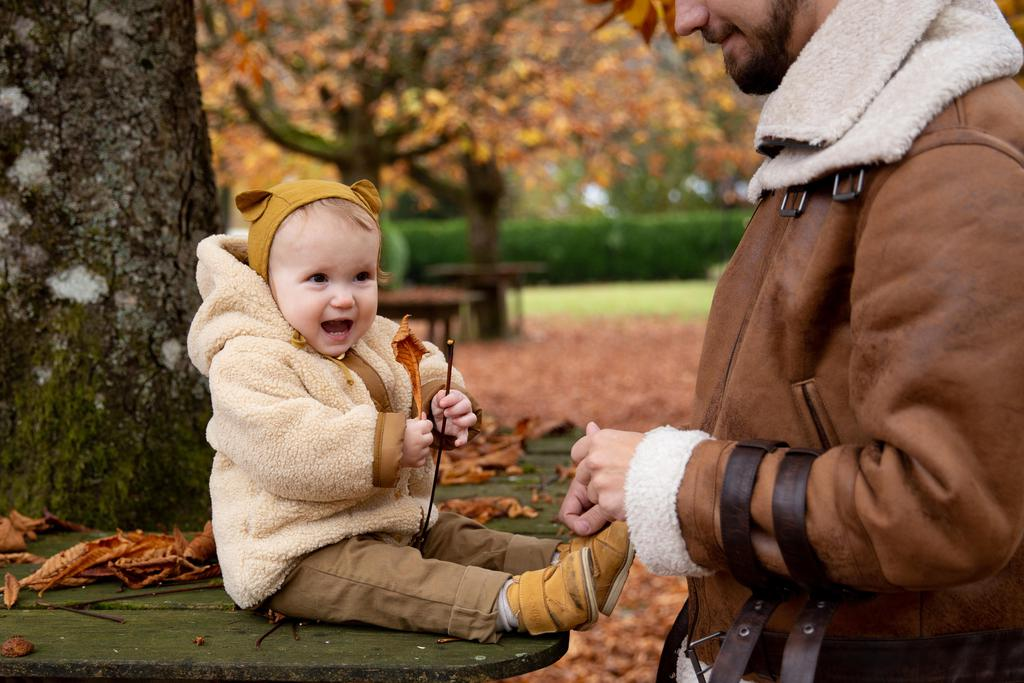child: (164, 167, 637, 643)
